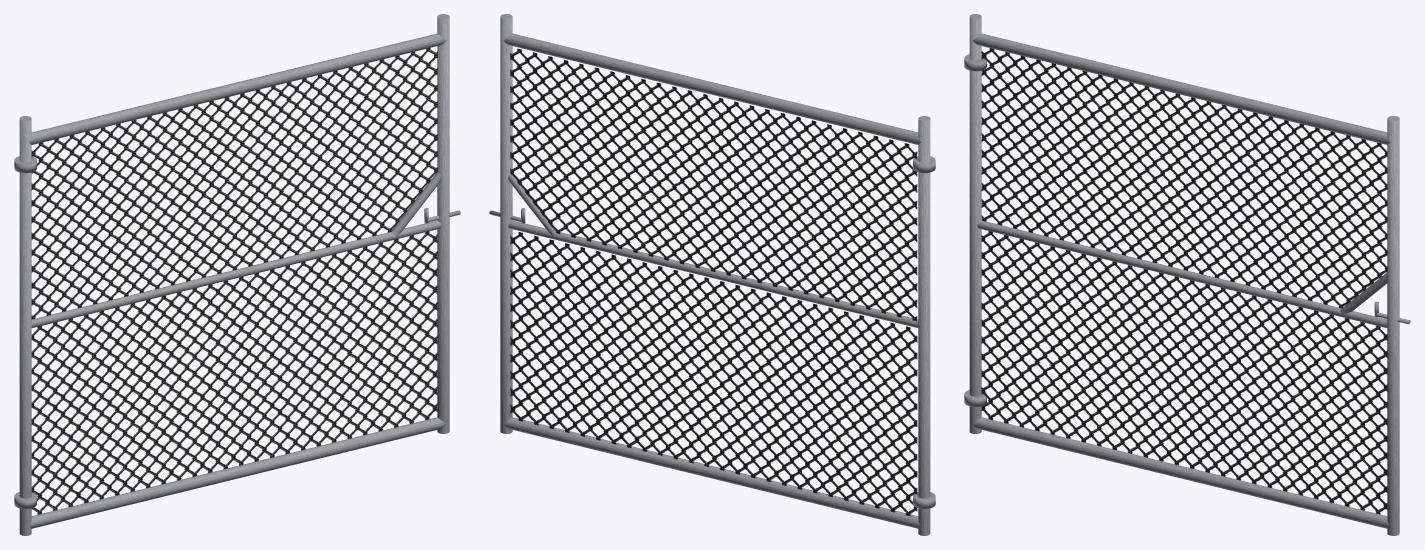
File: fence-tall-gate-2m-cbj_LOD00.gltf
3 views of the same model, side by side, from view 1: azimuth 30°, elevation 25°; view 2: azimuth 150°, elevation 25°; view 3: azimuth 330°, elevation 25° (orthographic).
Visible parts, largest first — view 1: gate; view 2: gate; view 3: gate.
Part boxes in pixels (bbox=[...]): gate: bbox=[14, 14, 460, 535]; gate: bbox=[489, 14, 935, 535]; gate: bbox=[964, 14, 1410, 535].
Size of the model in its own units: 2.07 by 1.85 by 0.0924.
